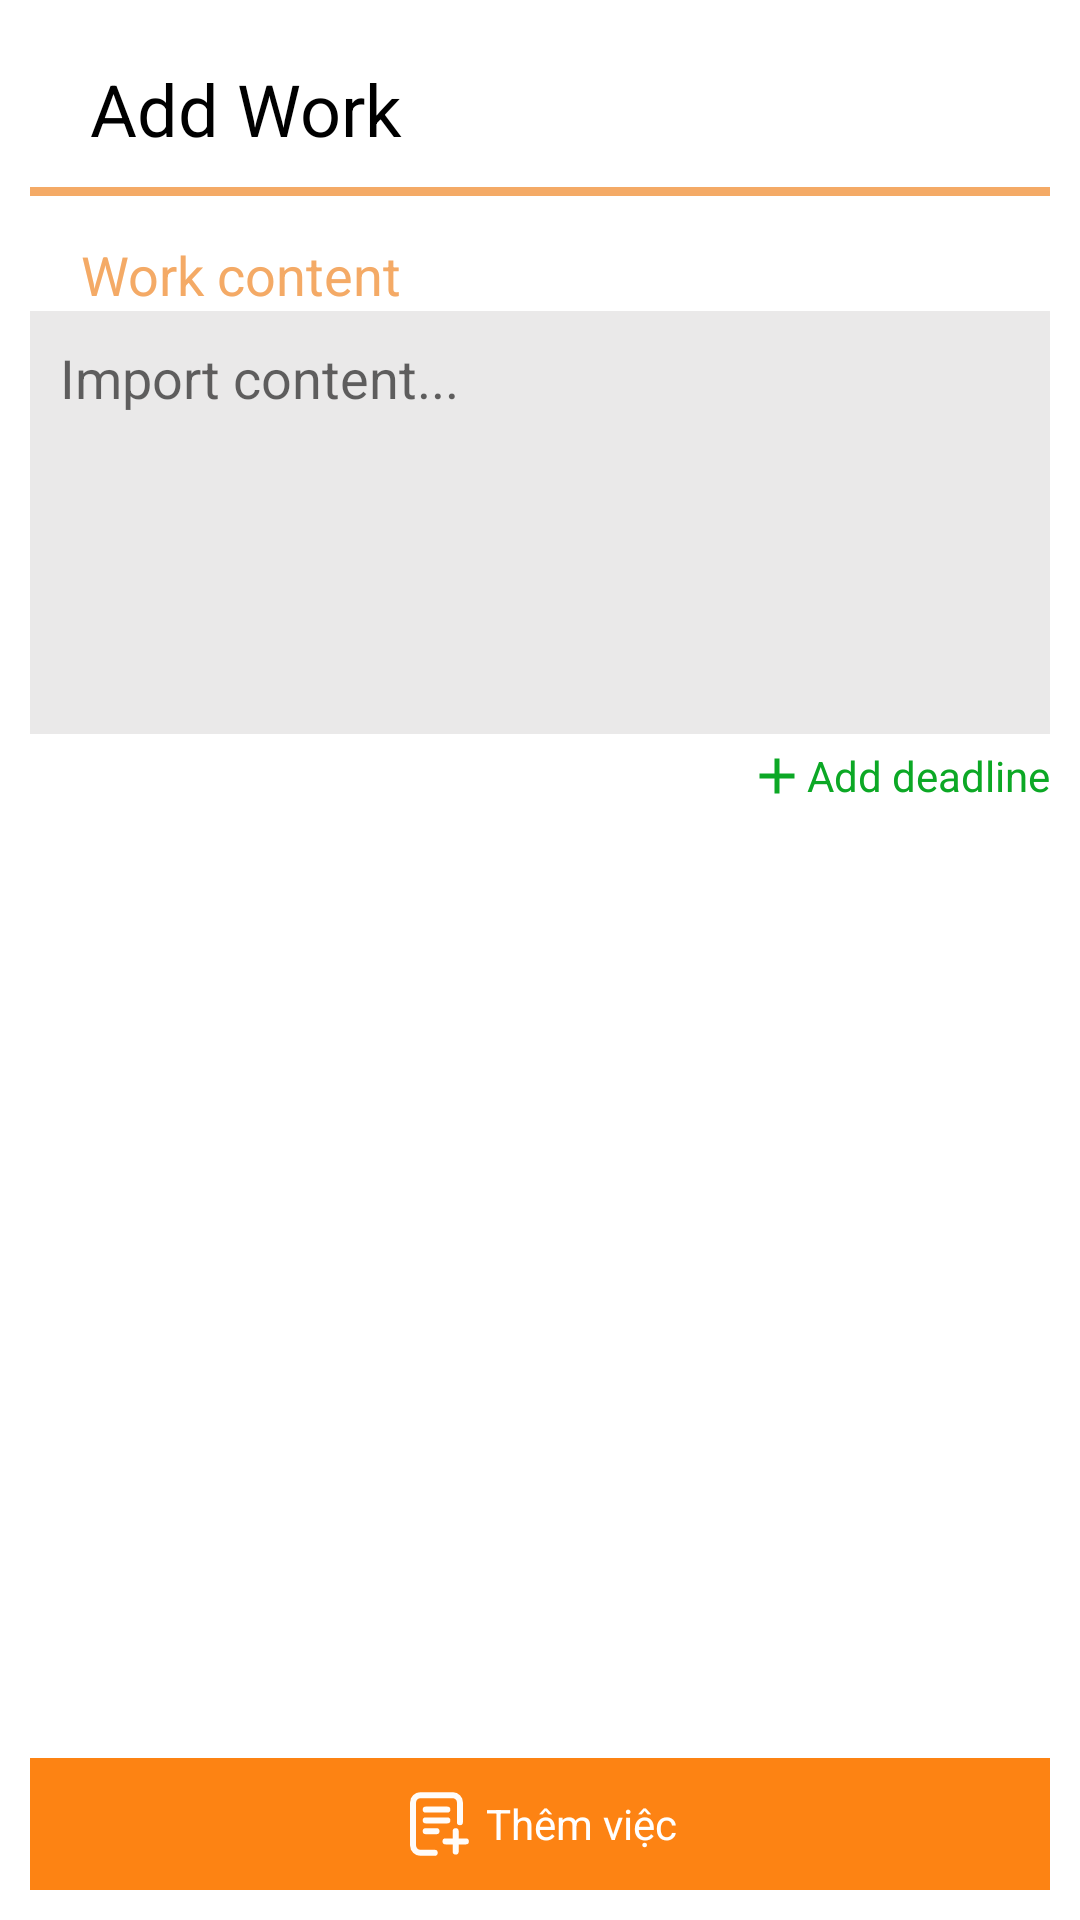

Screen size 1080 × 1920. Icon name, then its center in pixels as [x,y]:
file plus: [439,1824]
